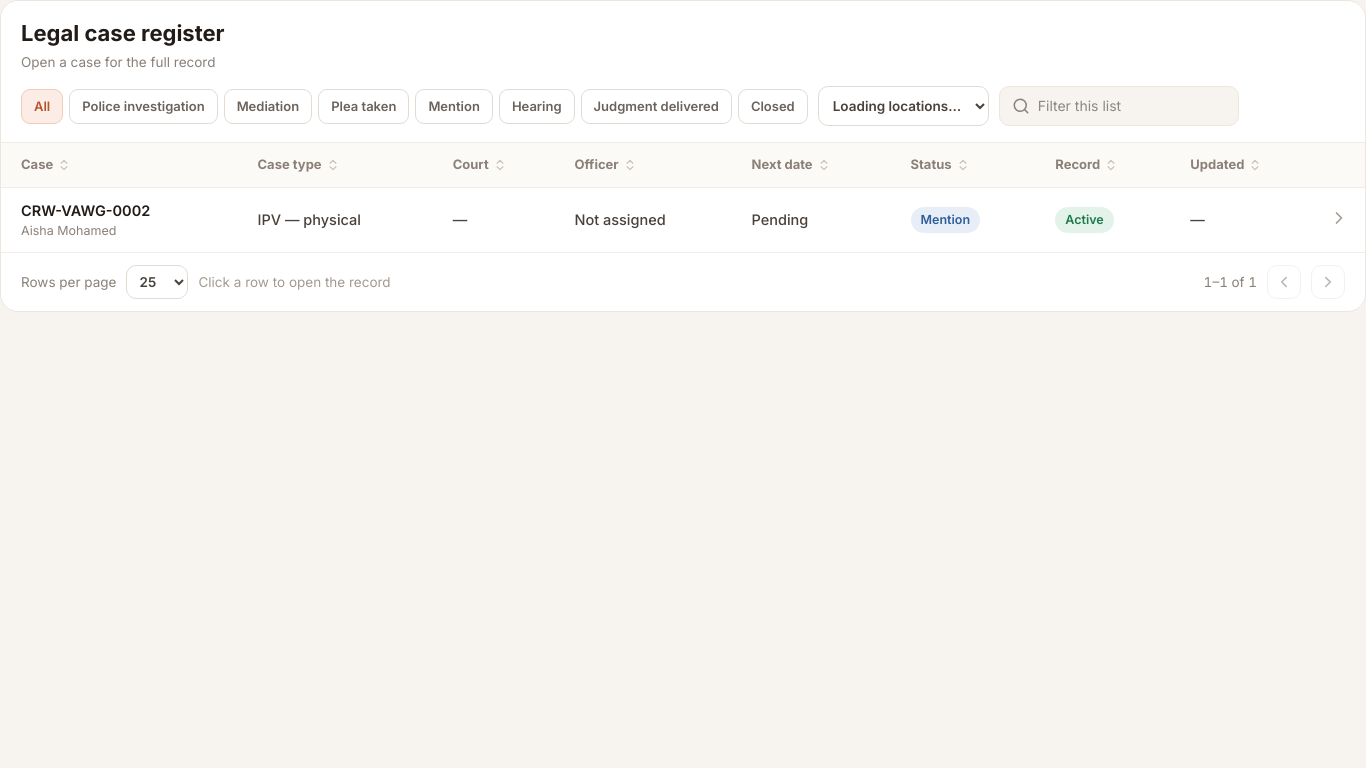
counselling dialog › opens from a legal case for that case's survivor
What coordinates should you click on to do the following:
click the button named "Open CRW-VAWG-0002"
I would click on:
 (1339, 218)
Its box is [1327,206,1351,230].
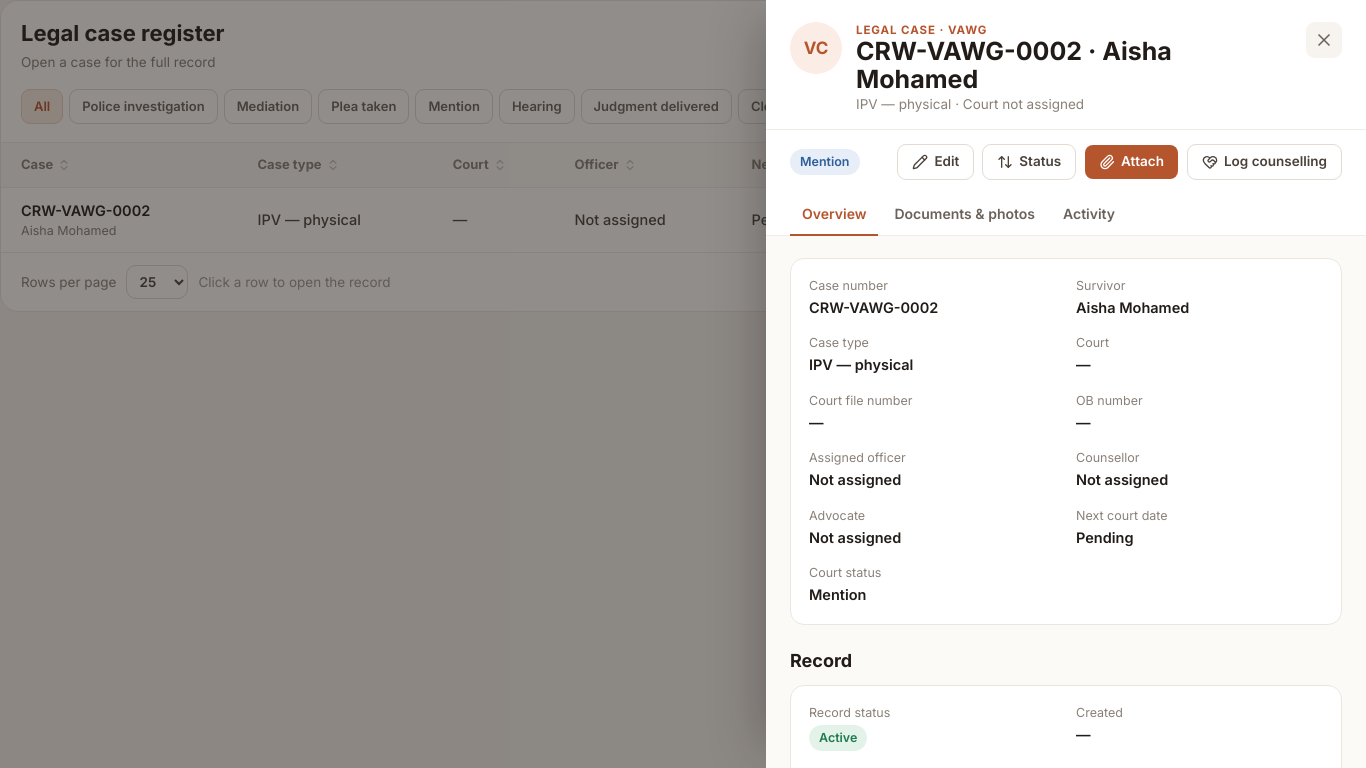
What coordinates should you click on to do the following:
click the button "Log counselling"
I would click on:
 (1264, 162)
Its box is [1187,144,1342,180].
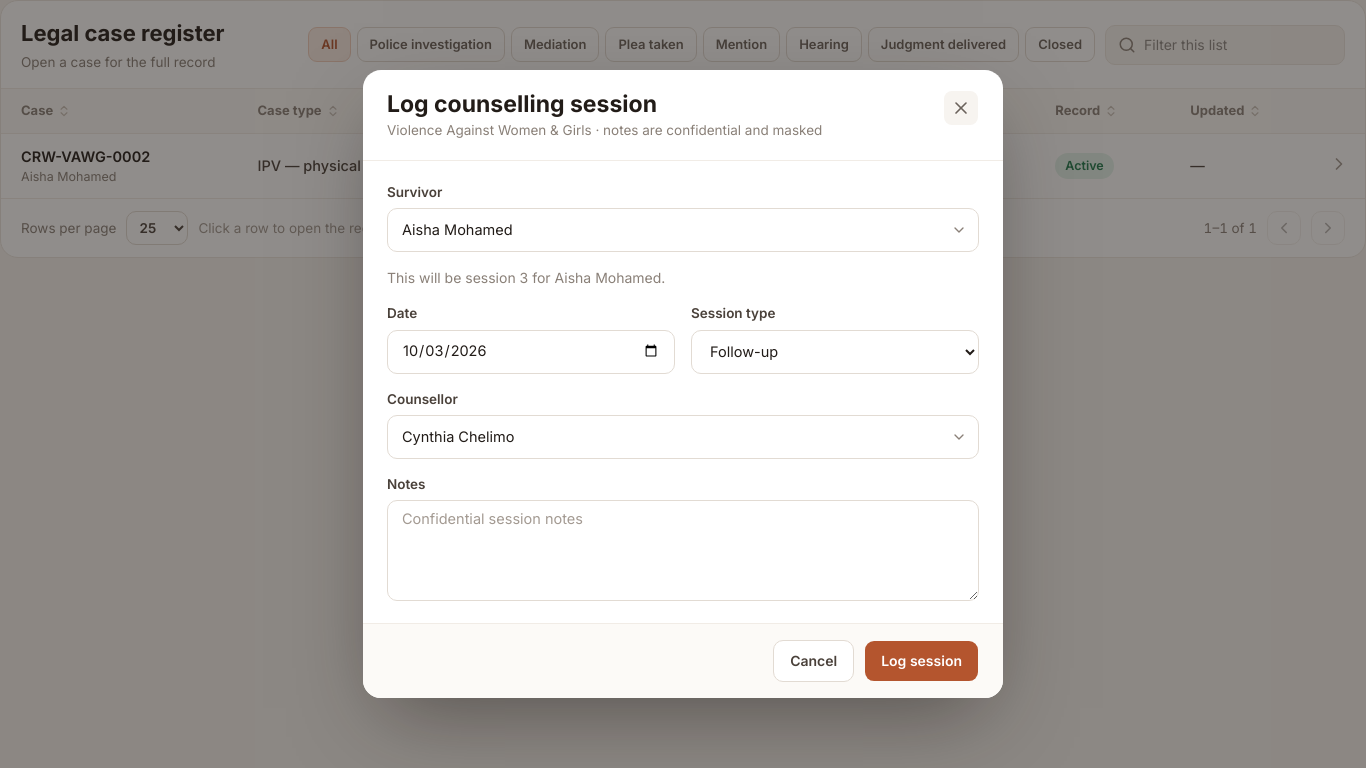
Result: the dropdown labelled "Counsellor" holds "Cynthia Chelimo" at [387,415,979,459]
Result: the dialog shows "This will be session 3 for Aisha Mohamed." at [387,269,665,286]
